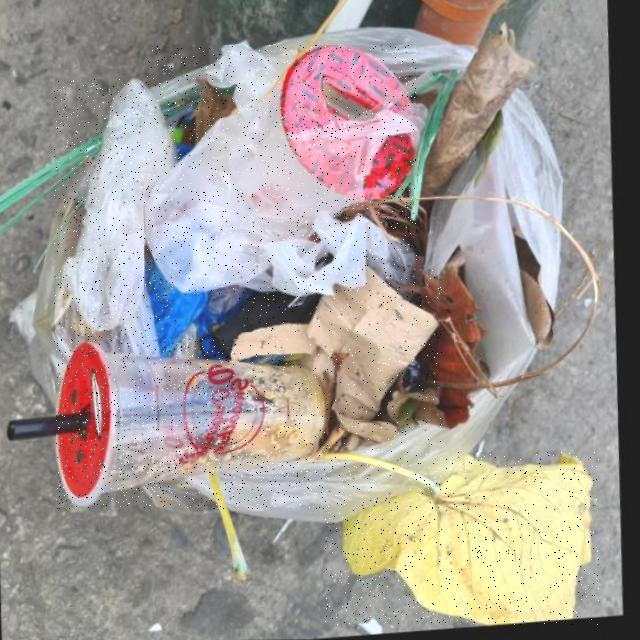biowaste: (324, 452, 599, 625)
paper: (239, 265, 442, 461)
plastic: (144, 46, 416, 295), (57, 340, 328, 509), (54, 79, 176, 360), (273, 215, 417, 297)
